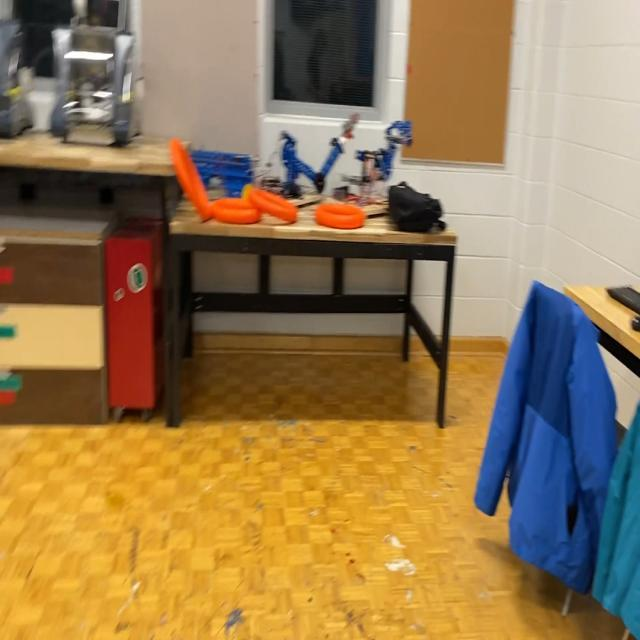note: (168, 136, 212, 224), (248, 184, 298, 224), (313, 200, 366, 231), (210, 196, 263, 226)
